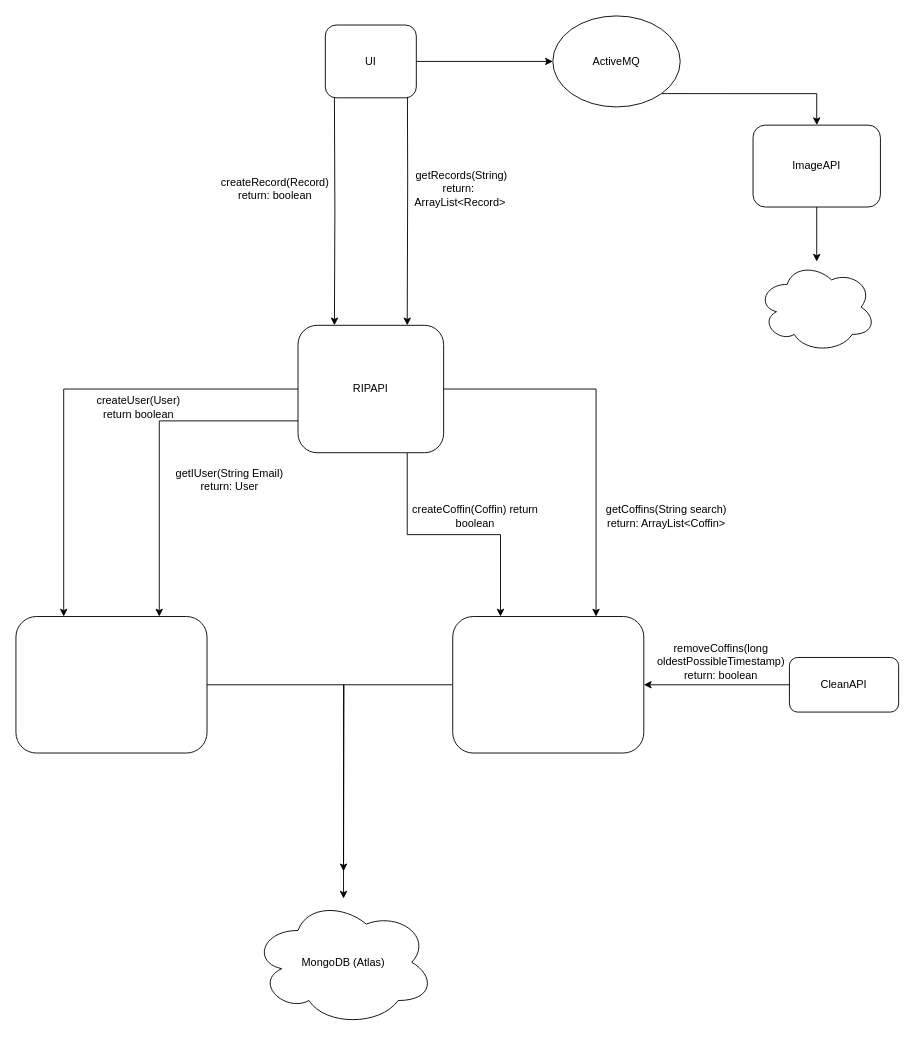
Some shapes in this 915 by 1042 pixel diagram are drawn without their labels. The shapes that lost their labels are listed below. From the top down, each one's box as (x1, y1, x2, y2) in pixels, then its label:
(757, 261, 876, 353): S3
(15, 616, 207, 753): User API
(452, 616, 644, 753): Coffin API
